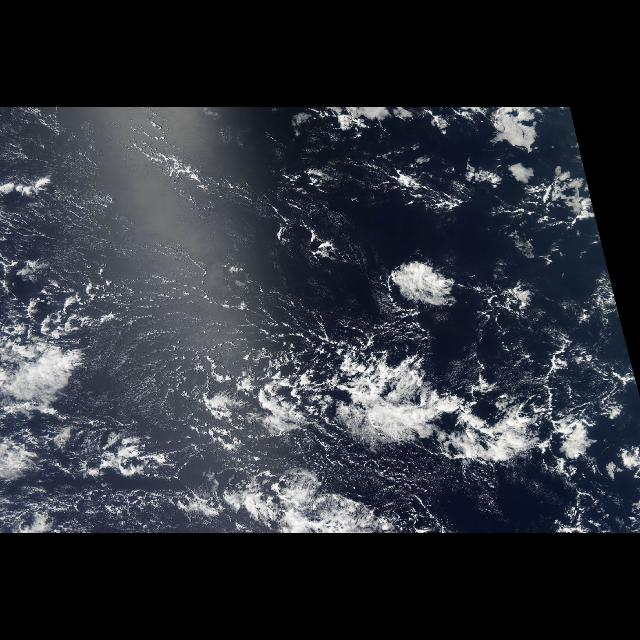Sugar: (49, 140, 232, 436)
